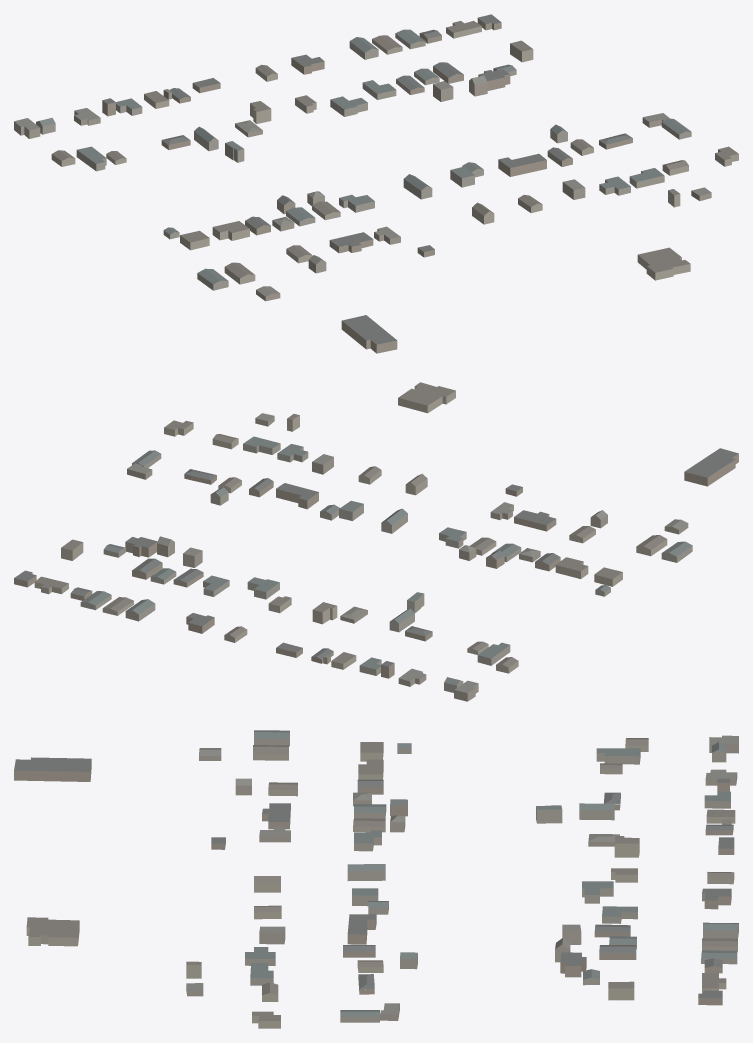
File: 5ad1cf4df124-chunk-1206_11839.glb
3 views of the same model, one above another, from view 1: azimuth 30°, elevation 25°; view 2: azimuth 150°, elevation 25°; view 3: azimuth 270°, elevation 25° (orthographic). The views are drawn at different scales.
Visible parts, largest first — view 1: building_94434, building_141939, building_32605, building_26616, building_73045, building_126296; view 2: building_94434, building_141939, building_32605, building_26616, building_86747, building_73045; view 3: building_94434, building_141939, building_32605, building_109112, building_26616, building_155288, building_126296, building_65379, building_86747, building_16195, building_154828, building_147871 (+10 smaller).
Boxes of the visible parts, x1,y1,x2,y2 form: building_94434: (341,315,397,353); building_141939: (637,247,690,280); building_32605: (498,153,546,176); building_26616: (329,232,373,253); building_73045: (212,221,249,240); building_126296: (330,96,367,116); building_94434: (684,448,738,486); building_141939: (398,382,455,413); building_32605: (276,483,318,509); building_26616: (514,510,556,531); building_86747: (125,537,157,557); building_73045: (555,557,588,578); building_94434: (14,757,91,781); building_141939: (26,917,79,946); building_32605: (347,914,376,944); building_109112: (596,748,640,764); building_26616: (262,803,290,829); building_155288: (347,864,385,881); building_126296: (582,881,613,903); building_65379: (579,803,614,820); building_86747: (560,952,586,977); building_16195: (703,922,738,938); building_154828: (702,888,731,909); building_147871: (253,745,288,760).
Bounding box in the file's own units: 344 × 9.98 × 362.
